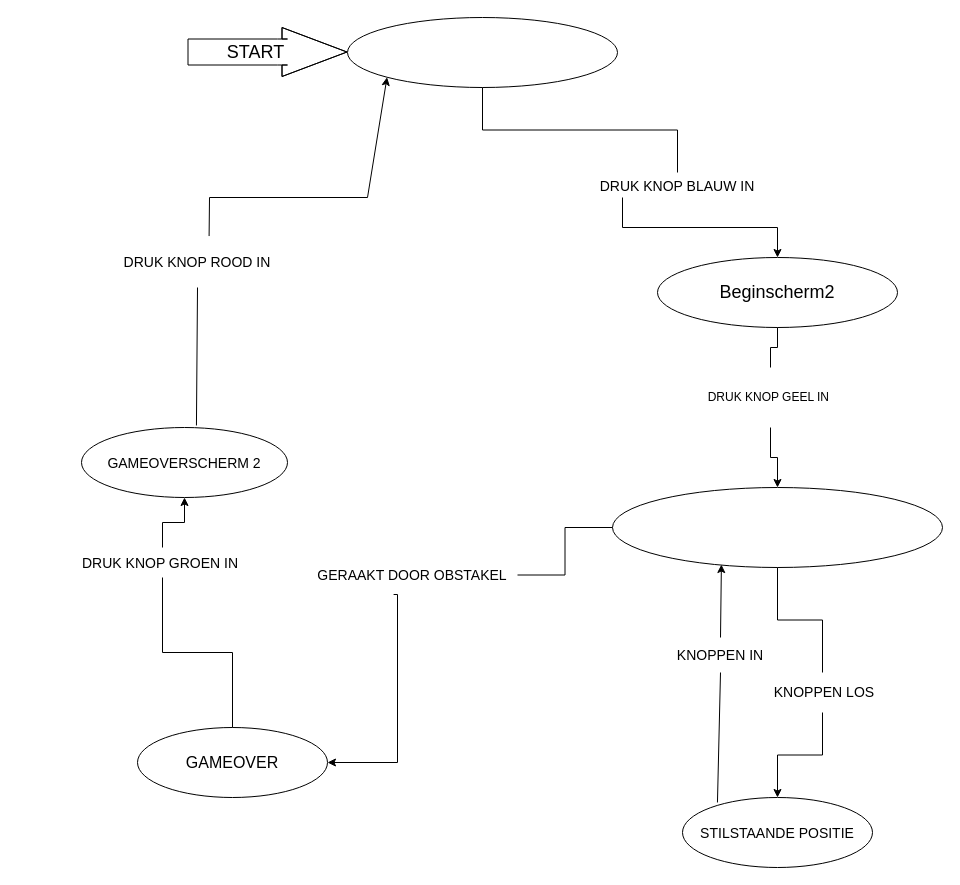
This 960x885 diagram has some shape labels left out. The box of each missing label's shape, as (x1, y1, x2, y2) in pixels:
BEWEEG VOORUIT/ACHTERUIT OF OMHOOG/OMLAAG: (612, 486, 942, 568)
Regelscherm: (346, 16, 618, 88)
